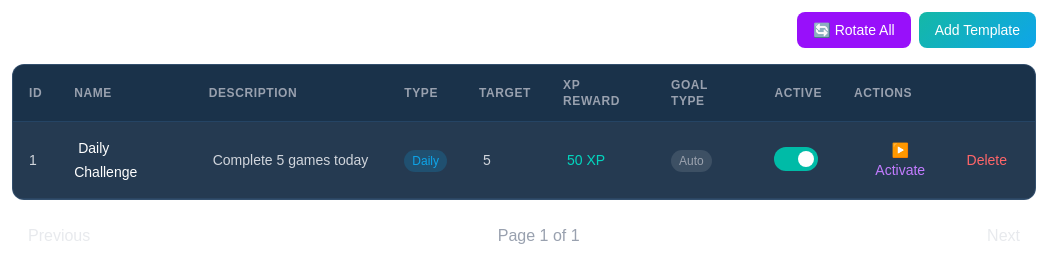
Scenario: ChallengeTemplatesTable › delete template › cancels delete when Cancel clicked
Expected: the text "Daily Challenge" is shown, [74,140,141,180]
Step 1. Click the button "Delete" → click(987, 160), box [954,134,1019,186]
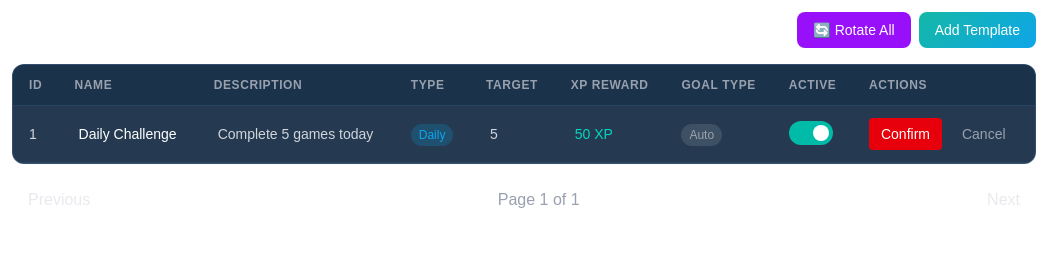
Result: the button "Confirm" is shown at [869,118,942,150]
# Click Cancel
Step 2. Click the button "Cancel" → click(984, 134), box [950,118,1018,150]
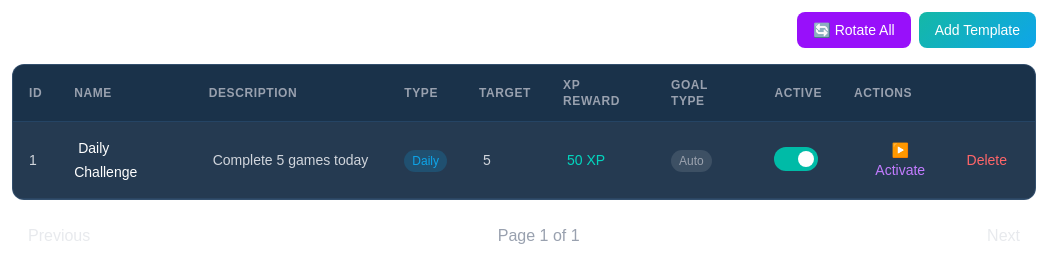
Result: the button "Confirm" is gone
